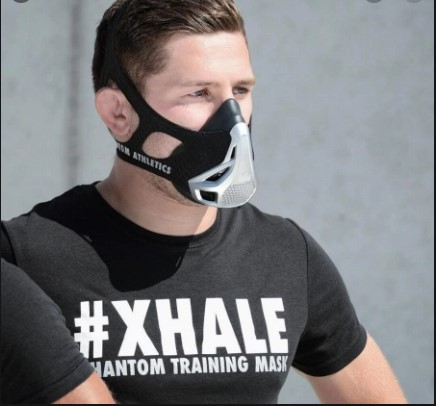face_with_mask: (91, 4, 259, 215)
